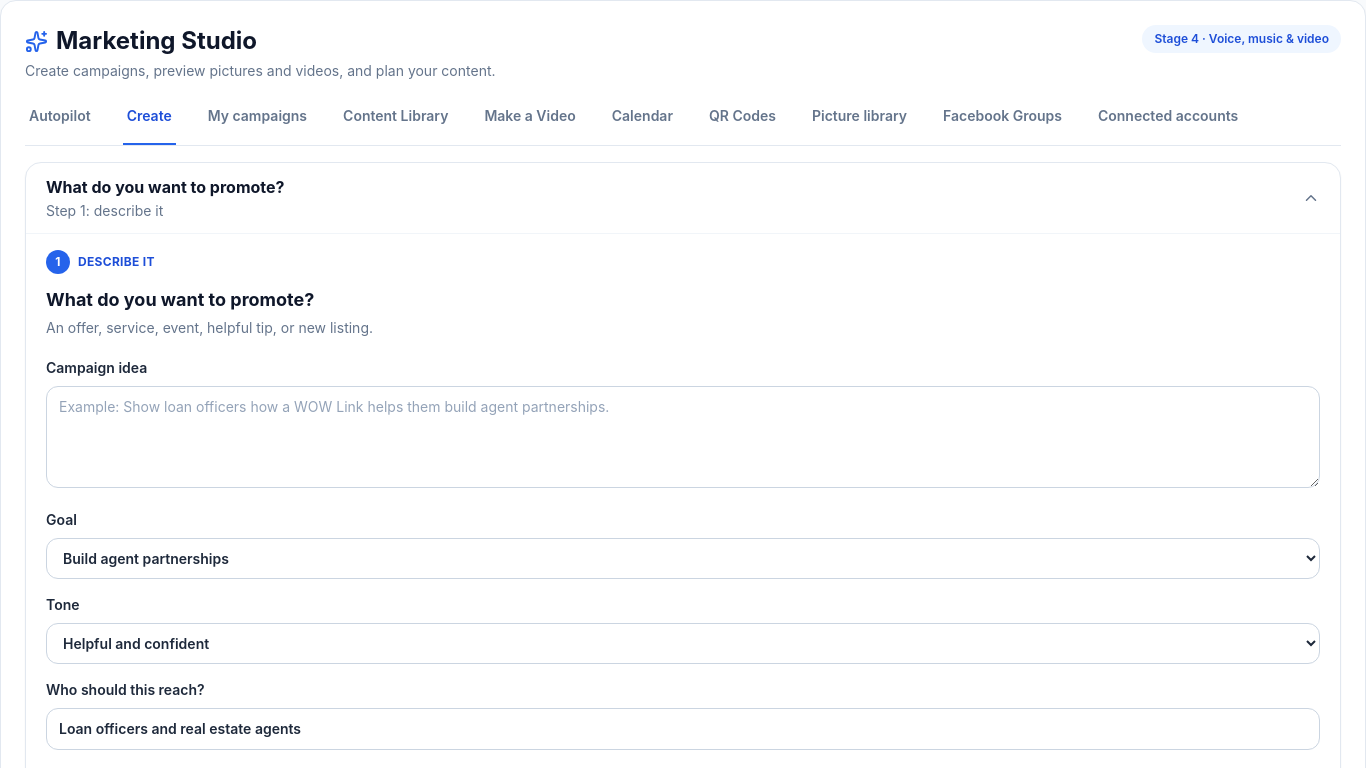
Test: keyboard tabs and planning calendar remain usable
Step 1. Press ArrowRight in the tab "Create", box left=123, top=101, right=176, bottom=145
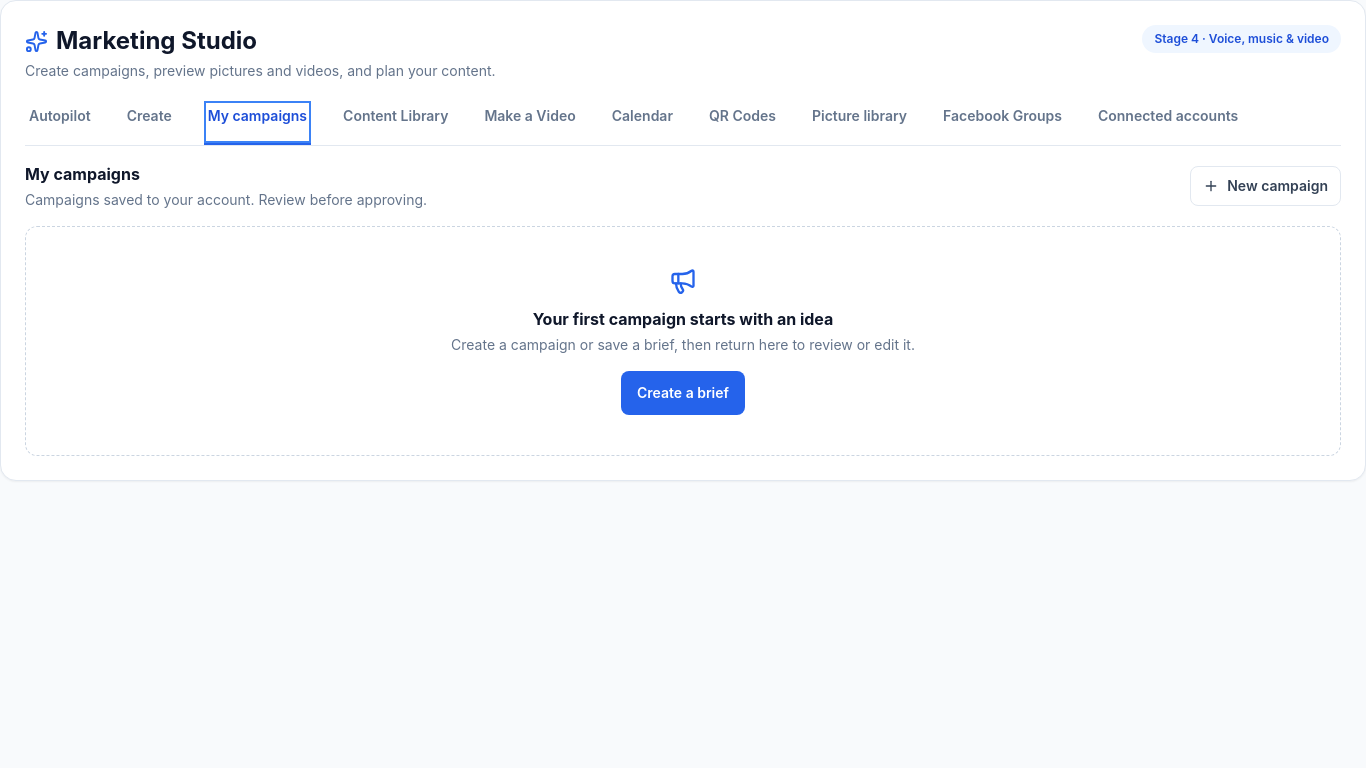
Step 2. Click the tab "Calendar" → (642, 123), box left=608, top=101, right=677, bottom=145
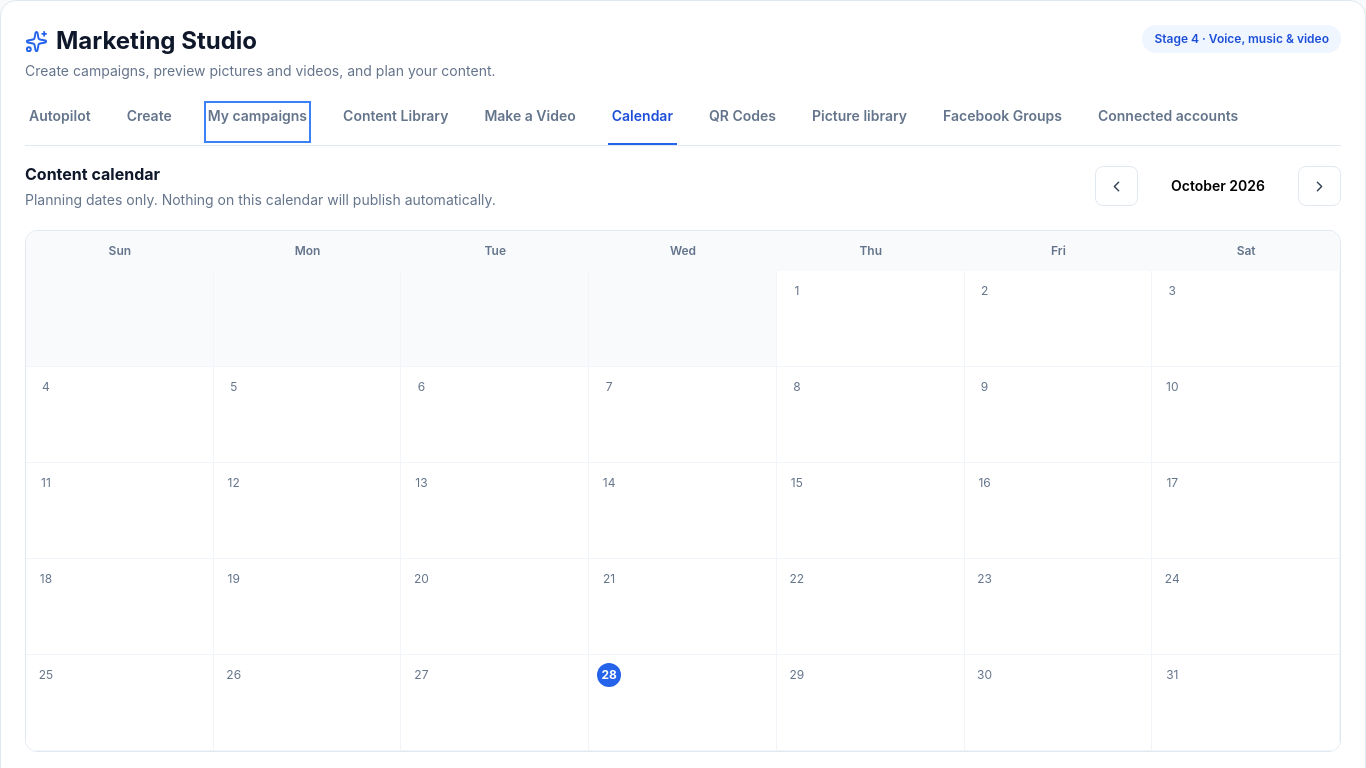
Expected: the text "Nothing on this calendar will publish automatically" is shown, left=25, top=191, right=496, bottom=208
